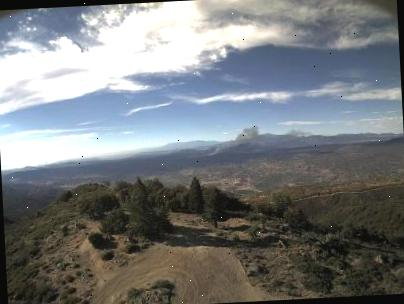smoke: (204, 124, 261, 160)
